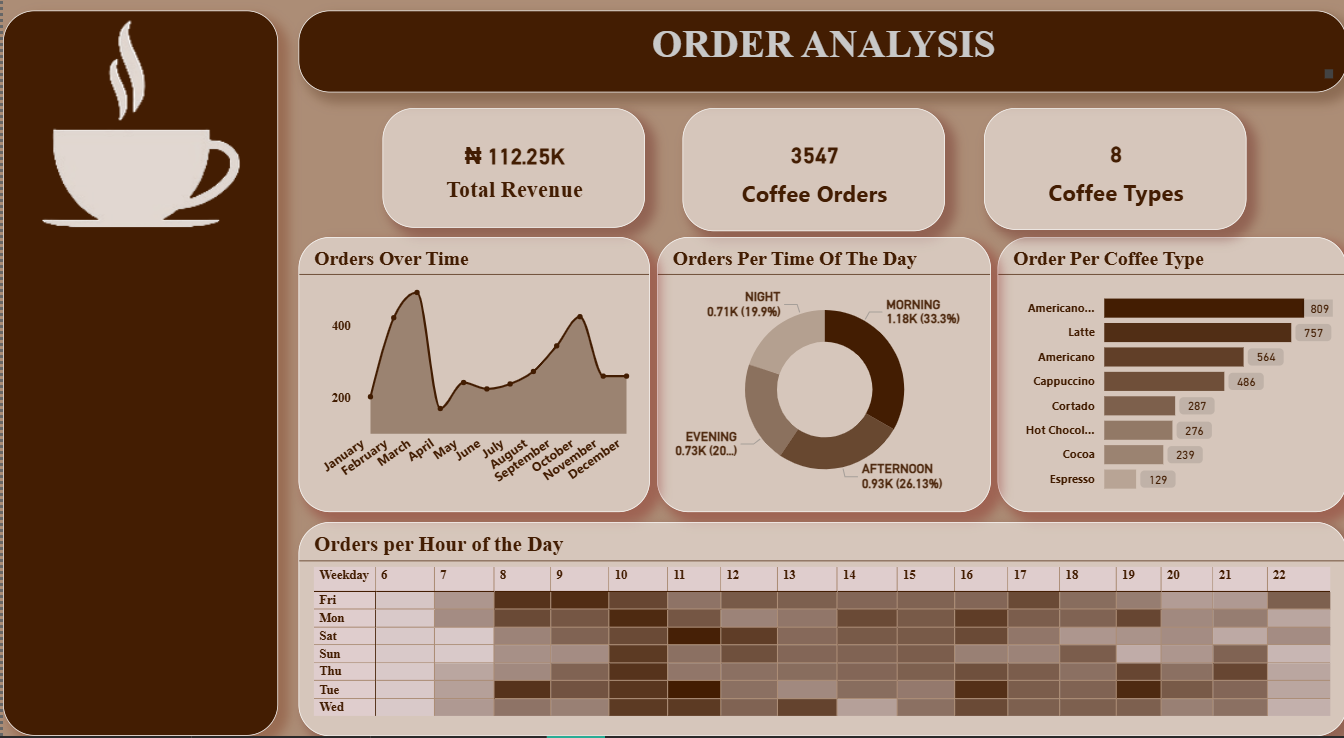

This screenshot's page, from the dashboard's own definition file:
{"tool":"powerbi","page":{"name":"Order Analysis","canvas":[1280,720],"ordinal":1},"visuals":[{"type":"textbox","box":[0,13.3,261.7,690.8],"z":0},{"type":"card","fields":{"Values":["Coffe_sales project.Total Revenue"]},"box":[361.1,106,250.1,114.3],"z":1000},{"type":"card","fields":{"Values":["CountNonNull(Coffe_sales project.coffee_name)"]},"box":[647.7,106,250.1,117.6],"z":2000},{"type":"clusteredBarChart","title":"Order Per Coffee Type","fields":{"Category":["Coffe_sales project.coffee_name"],"Y":["CountNonNull(Coffe_sales project.coffee_name)"]},"box":[947.5,228.6,333,261.7],"z":3000},{"type":"donutChart","title":"Orders Per Time Of The Day","fields":{"Category":["Coffe_sales project.Time of the Day"],"Y":["CountNonNull(Coffe_sales project.coffee_name)"]},"box":[622.8,228.6,318,261.7],"z":4000},{"type":"areaChart","title":"Orders Over Time","fields":{"Category":["Coffe_sales project.Date.Variation.Date Hierarchy.Year","Coffe_sales project.Date.Variation.Date Hierarchy.Month"],"Y":["CountNonNull(Coffe_sales project.coffee_name)"]},"box":[281.6,228.6,334.6,261.7],"z":5000},{"type":"card","fields":{"Values":["Count(Coffe_sales project.coffee_name)"]},"box":[934.3,106,250.1,116],"z":6000},{"type":"pivotTable","title":"Orders per Hour of the Day","fields":{"Rows":["Coffe_sales project.Weekday"],"Columns":["Coffe_sales project.hour_of_day"],"Values":["CountNonNull(Coffe_sales project.coffee_name)"]},"box":[281.6,500.3,998.9,203.7],"z":7000},{"type":"textbox","title":"ORDER ANALYSIS","box":[281.6,13.3,998.9,77.9],"z":8000},{"type":"image","box":[6.6,16.6,248.5,207.1],"z":9000}]}

Visuals, with their boxes in screenshot pixels (x1, y1, x2, y2), scaled from the page's 1280x720 canvas onto the 1344x738 screenshot:
textbox: {"left": 0, "top": 14, "right": 275, "bottom": 722}
card - Coffe_sales project.Total Revenue: {"left": 379, "top": 109, "right": 642, "bottom": 226}
card - CountNonNull(Coffe_sales project.coffee_name): {"left": 680, "top": 109, "right": 943, "bottom": 229}
"Order Per Coffee Type" clusteredBarChart: {"left": 995, "top": 234, "right": 1343, "bottom": 503}
"Orders Per Time Of The Day" donutChart: {"left": 654, "top": 234, "right": 988, "bottom": 503}
"Orders Over Time" areaChart: {"left": 296, "top": 234, "right": 647, "bottom": 503}
card - Count(Coffe_sales project.coffee_name): {"left": 981, "top": 109, "right": 1244, "bottom": 228}
"Orders per Hour of the Day" pivotTable: {"left": 296, "top": 513, "right": 1343, "bottom": 722}
"ORDER ANALYSIS" textbox: {"left": 296, "top": 14, "right": 1343, "bottom": 93}
image: {"left": 7, "top": 17, "right": 268, "bottom": 229}
